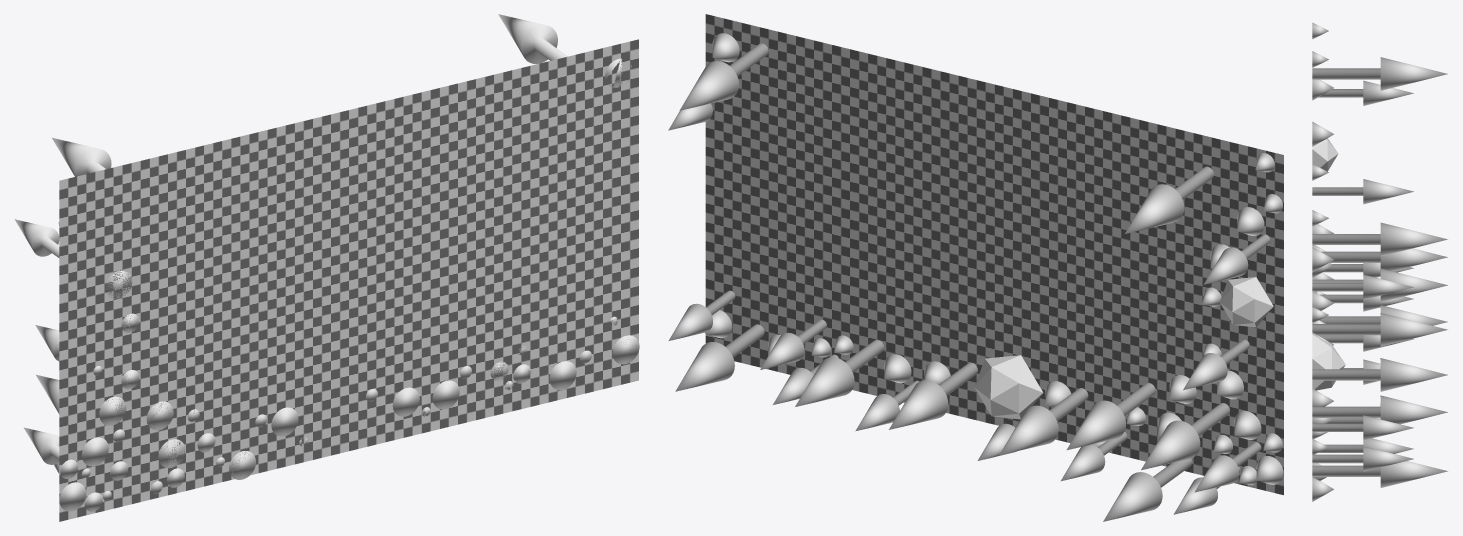
File: forest06.dae
The picture shows the model from 3 angles, left to right: view 1: azimuth 30°, elevation 25°; view 2: azimuth 150°, elevation 25°; view 3: azimuth 270°, elevation 25°; orthographic projection. The views are drawn at different scales.
Parts seen in each view (by area): view 1: Plane.024, Cone.1337, Cone.1322, Cone.1319, Cone.1326; view 2: Plane.024, Icosphere.034, Cone.1339, Cone.1322, Cone.1327, Cone.1311, Cone.1333, Cone.1335, Cone.1337, Cone.1343, Cone.1317, Icosphere.033 (+9 smaller); view 3: Cone.1322, Cone.1335, Cone.1333, Cone.1337, Cone.1339, Cone.1343, Cone.1327, Cone.1348, Cone.1308, Cone.1350, Cone.1340, Cone.1311 (+16 smaller).
Boxes of the visible parts, <box> form: Plane.024: <box>59,39,638,521</box>; Cone.1337: <box>498,14,567,63</box>; Cone.1322: <box>52,137,111,176</box>; Cone.1319: <box>14,219,75,268</box>; Cone.1326: <box>23,427,90,477</box>; Plane.024: <box>705,14,1283,495</box>; Icosphere.034: <box>974,355,1043,419</box>; Cone.1339: <box>795,339,884,406</box>; Cone.1322: <box>1125,166,1213,233</box>; Cone.1327: <box>1141,403,1229,470</box>; Cone.1311: <box>1066,383,1155,450</box>; Cone.1333: <box>999,388,1088,455</box>; Cone.1335: <box>889,362,977,429</box>; Cone.1337: <box>679,43,768,110</box>; Cone.1343: <box>675,324,764,391</box>; Cone.1317: <box>1103,458,1192,521</box>; Icosphere.033: <box>1220,277,1273,327</box>; Cone.1322: <box>1312,57,1447,90</box>; Cone.1335: <box>1312,358,1447,391</box>; Cone.1333: <box>1312,313,1447,346</box>; Cone.1337: <box>1312,222,1447,256</box>; Cone.1339: <box>1312,395,1447,424</box>; Cone.1343: <box>1312,461,1447,487</box>; Cone.1327: <box>1321,248,1447,273</box>; Cone.1348: <box>1312,446,1413,471</box>; Cone.1308: <box>1312,179,1413,204</box>; Cone.1350: <box>1312,274,1413,299</box>; Cone.1340: <box>1312,415,1413,440</box>; Cone.1311: <box>1312,268,1447,301</box>.
Size of the model in its own units: 64.08 by 16 by 36.88.
Materials: 1 (1 with a texture image).
